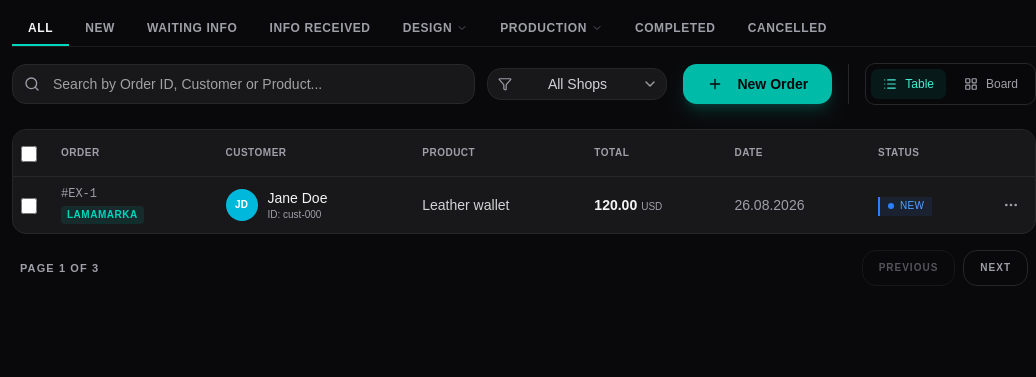
OrdersLayout bulk selection › drops the selection when the status tab or page changes
Click the checkbox named "Select order EX-1". click: click(29, 206)
box: [21,198,37,214]
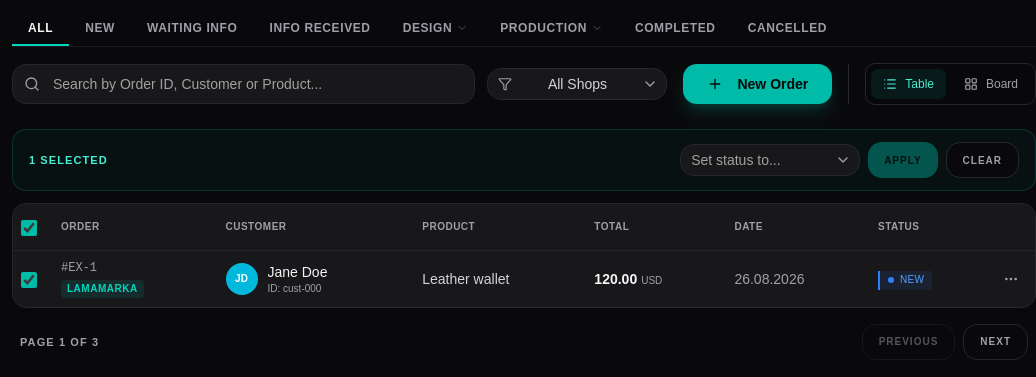
Expected: the text "1 selected" is shown, [29,152,108,168]
Status tab — the ids belong to the previous result set.
Click the button "New". click: click(100, 29)
box: [69,12,131,46]
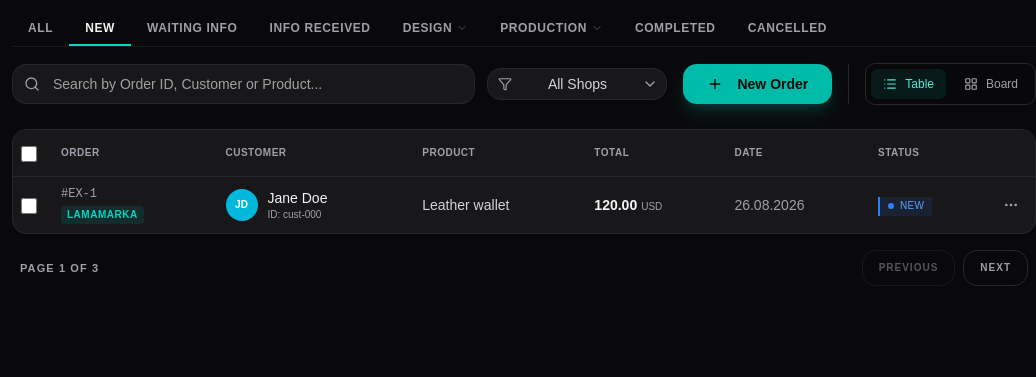
Expected: the text "1 selected" is gone
Click the checkbox named "Select order EX-1". click: click(29, 206)
box: [21,198,37,214]
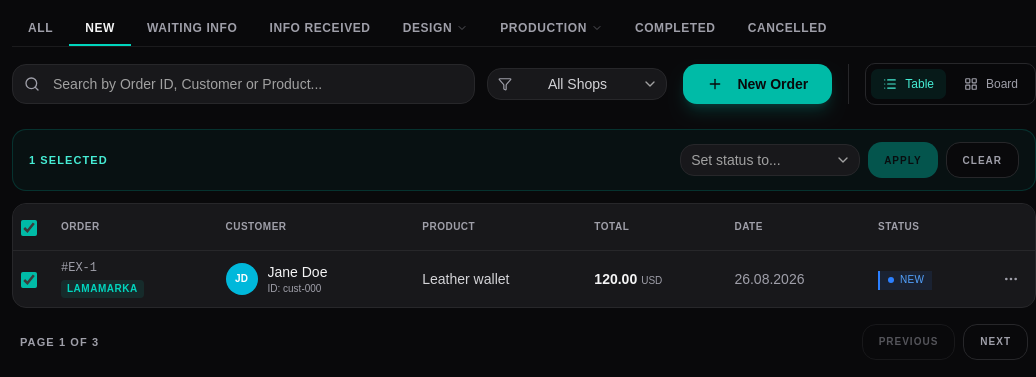
Expected: the text "1 selected" is shown, [29,152,108,168]
Click the button "Next". click: click(996, 342)
box: [963,324,1028,360]
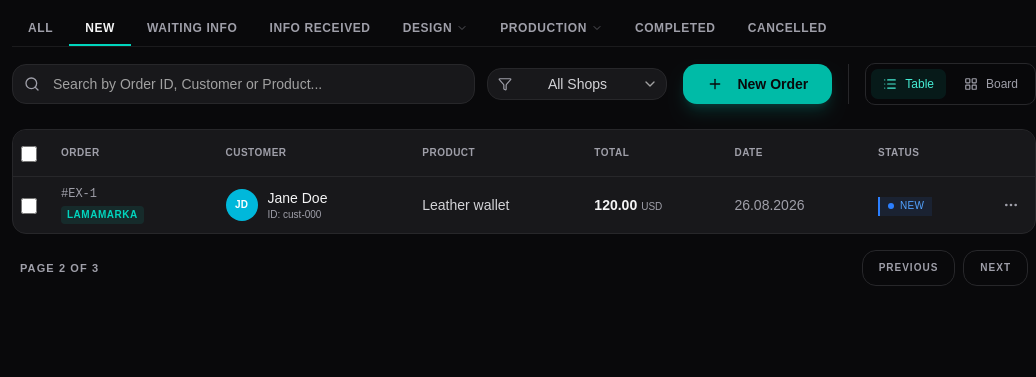
Expected: the text "1 selected" is gone
